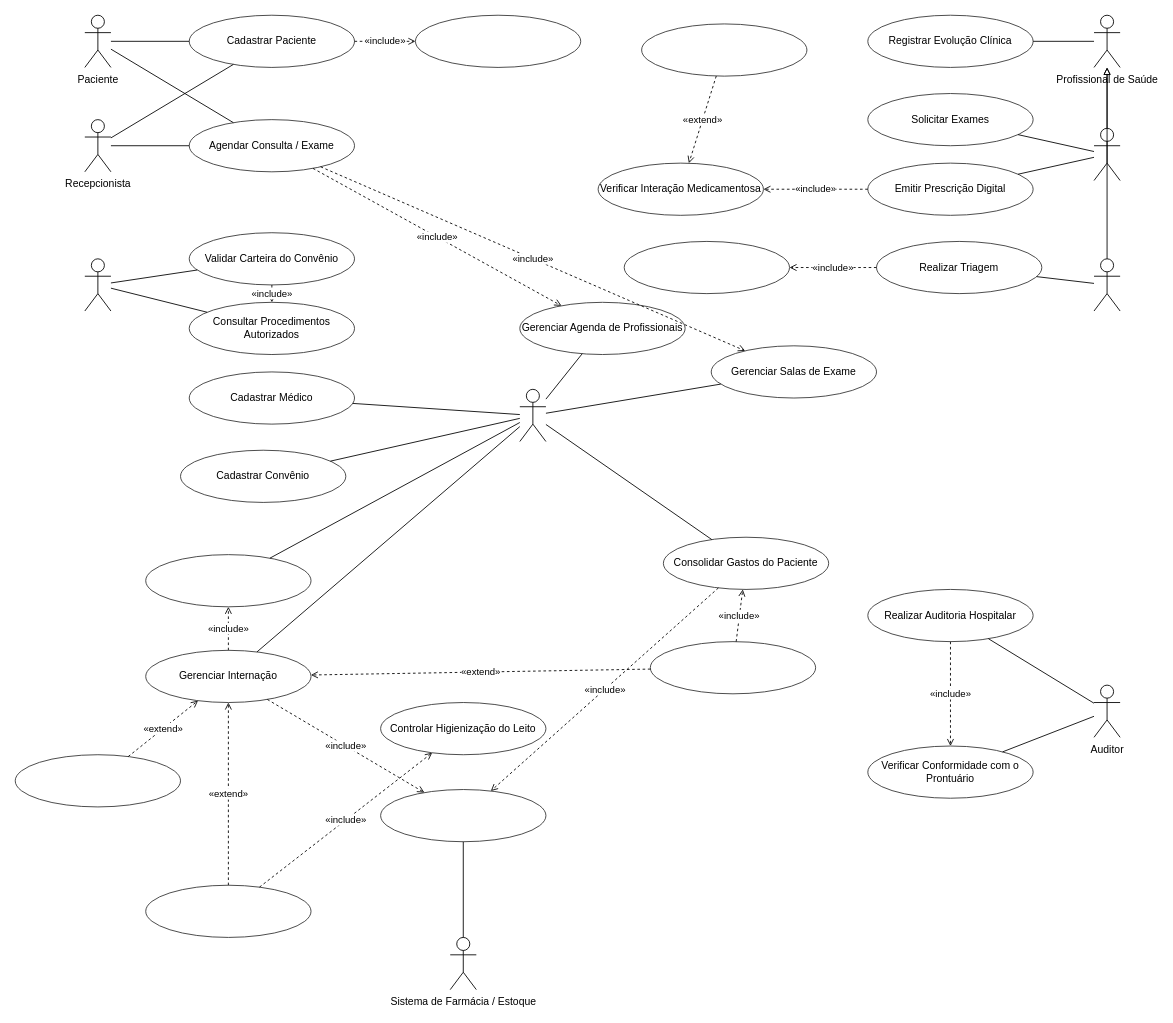
The diagram is 1173 pixels wide and 1023 high, and some of its shapes have lost their labels. The centre of each missing label's shape, as x and y in pixels:
Administrador Hospitalar: point (532, 415)
Classificar Risco pelo Protocolo de Manchester: point (706, 267)
Controlar Insumos do Leito: point (463, 815)
Emitir Alerta Automático: point (724, 49)
Emitir Guia de Faturamento: point (732, 667)
Enfermeiro / Triagem: point (1106, 284)
Monitorar Ocupação dos Leitos: point (228, 580)
Médico: point (1106, 154)
Registrar Alta Hospitalar: point (228, 910)
Registrar Histórico Clínico e Alergias: point (498, 40)
Sistema de Convênio: point (97, 284)
Transferir Paciente entre Alas: point (97, 780)
